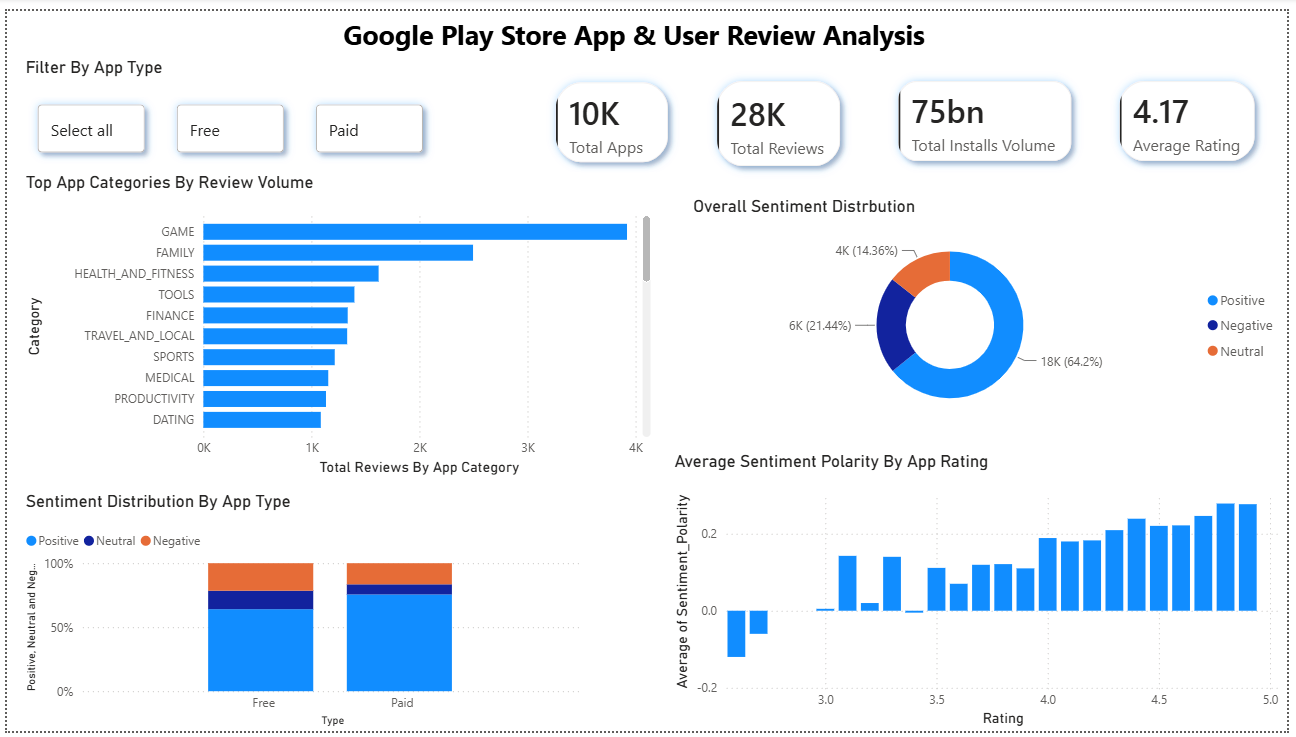

Layout of this report page (visuals, bound fields, positions):
{"tool":"powerbi","page":{"name":"App_Review_Analysis_Dashboard","canvas":[1280,720],"ordinal":0},"visuals":[{"type":"cardVisual","fields":{"Data":["Combined_Data.Total Apps"]},"box":[520,42.5,170.3,138.4],"z":0},{"type":"cardVisual","fields":{"Data":["Combined_Data.Total Reviews"]},"box":[681.2,41.2,181.3,143.3],"z":1000},{"type":"cardVisual","fields":{"Data":["Combined_Data.Total Installs"]},"box":[862.5,41.2,231.5,138.4],"z":2000},{"type":"cardVisual","fields":{"Data":["Combined_Data.Average Rating"]},"box":[1083.8,41.2,193.6,138.4],"z":3000},{"type":"clusteredBarChart","title":"Top App Categories By Review Volume","fields":{"Category":["Combined_Data.Category"],"Y":["Sum(Combined_Data.Total_Reviews_By_App)"]},"box":[13.8,161.2,635,307.5],"z":4000},{"type":"donutChart","title":"Overall Sentiment Distrbution","fields":{"Y":["Sum(Combined_Data.Positive)","Sum(Combined_Data.Negative)","Sum(Combined_Data.Neutral)"]},"box":[681.2,185,598.8,227.5],"z":5000},{"type":"hundredPercentStackedColumnChart","title":"Sentiment Distribution By App Type","fields":{"Category":["Combined_Data.Type"],"Y":["Sum(Combined_Data.Positive)","Sum(Combined_Data.Neutral)","Sum(Combined_Data.Negative)"]},"box":[13.5,480.2,567,240],"z":6000},{"type":"clusteredColumnChart","title":"Average Sentiment Polarity By App Rating","fields":{"Y":["Avg(Combined_Data.Sentiment_Polarity)"],"Category":["Combined_Data.Rating"]},"box":[662.5,440,615,280.6],"z":7000},{"type":"advancedSlicerVisual","fields":{"Values":["Combined_Data.Type"]},"box":[13.8,46.2,421.2,112.5],"z":7002},{"type":"textbox","box":[331.2,0,610,58.8],"z":7003}]}

Visuals, with their boxes in screenshot pixels (x1, y1, x2, y2), scaled from the page's 1280x720 canvas onto the 1296x737 screenshot:
cardVisual - Combined_Data.Total Apps: [left=526, top=44, right=699, bottom=185]
cardVisual - Combined_Data.Total Reviews: [left=690, top=42, right=873, bottom=189]
cardVisual - Combined_Data.Total Installs: [left=873, top=42, right=1108, bottom=184]
cardVisual - Combined_Data.Average Rating: [left=1097, top=42, right=1293, bottom=184]
"Top App Categories By Review Volume" clusteredBarChart: [left=14, top=165, right=657, bottom=480]
"Overall Sentiment Distrbution" donutChart: [left=690, top=189, right=1295, bottom=422]
"Sentiment Distribution By App Type" hundredPercentStackedColumnChart: [left=14, top=492, right=588, bottom=736]
"Average Sentiment Polarity By App Rating" clusteredColumnChart: [left=671, top=450, right=1293, bottom=736]
advancedSlicerVisual - Combined_Data.Type: [left=14, top=47, right=440, bottom=162]
textbox: [left=335, top=0, right=953, bottom=60]
